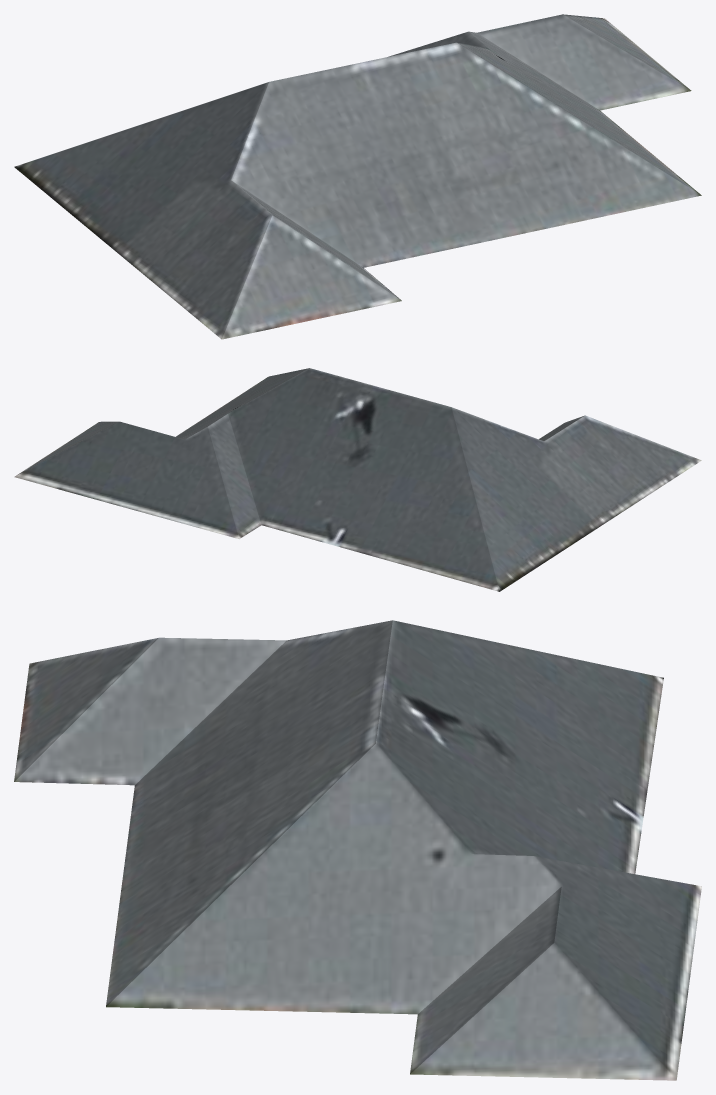
The model's file is CG10_500_038058_0043_roof.obj.
The picture shows the model from 3 angles, top to bottom: view 1: azimuth 30°, elevation 25°; view 2: azimuth 150°, elevation 25°; view 3: azimuth 270°, elevation 25°; orthographic projection. The views are drawn at different scales.
Visible parts, largest first — view 1: CG10_500_038058_0043_roof; view 2: CG10_500_038058_0043_roof; view 3: CG10_500_038058_0043_roof.
Boxes of the visible parts, x1,y1,x2,y2 form: CG10_500_038058_0043_roof: (14, 14, 701, 339); CG10_500_038058_0043_roof: (14, 368, 701, 591); CG10_500_038058_0043_roof: (14, 620, 701, 1080).
Bounding box in the file's own units: 382 × 70 × 266.
1 material, 1 textured.
